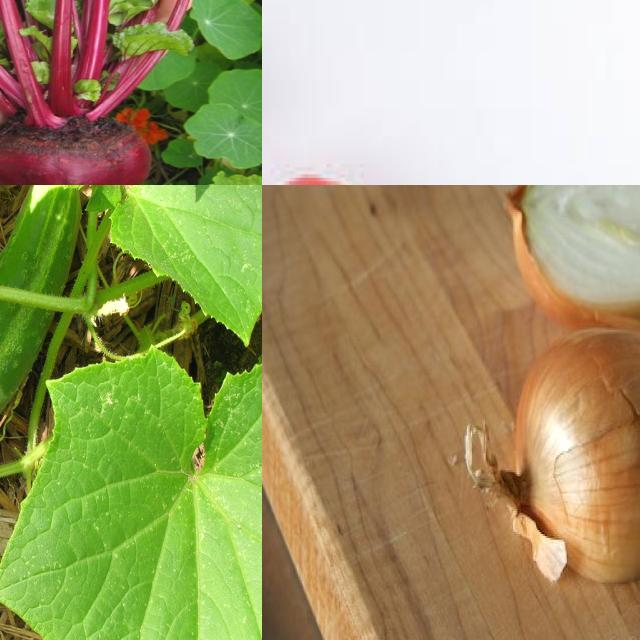beet: (1, 124, 163, 186)
cucumber: (1, 186, 89, 468)
onion: (507, 333, 640, 589), (504, 186, 640, 328)
